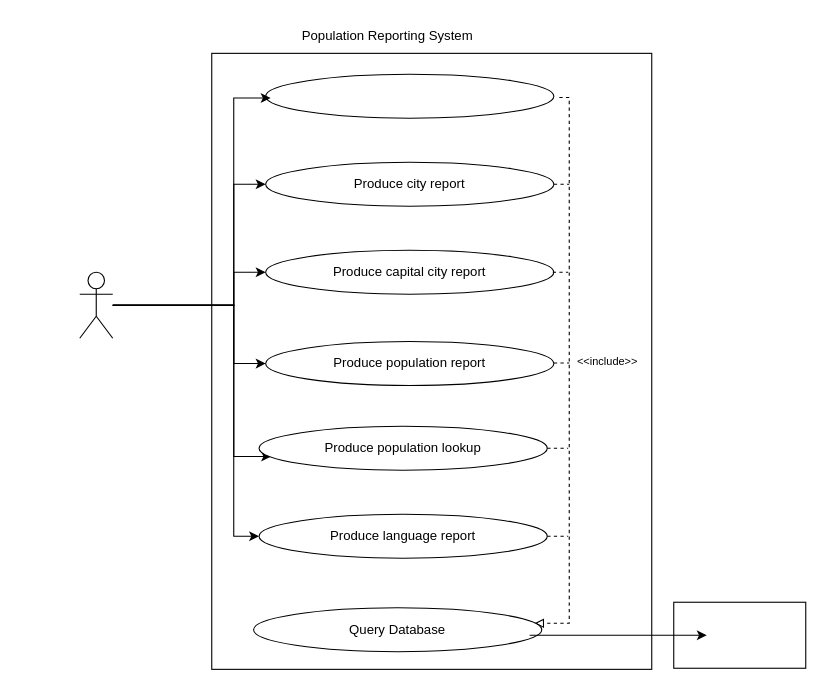
This 825x689 diagram has some shape labels left out. The centre of each missing label's shape, as x and y in pixels:
"Database" belongs at pixel 739 634.
"Employee of Organisation" belongs at pixel 96 304.
"Produce country report" belongs at pixel 409 95.
